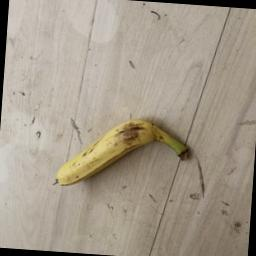Banana Ripe: (38, 103, 188, 222)
